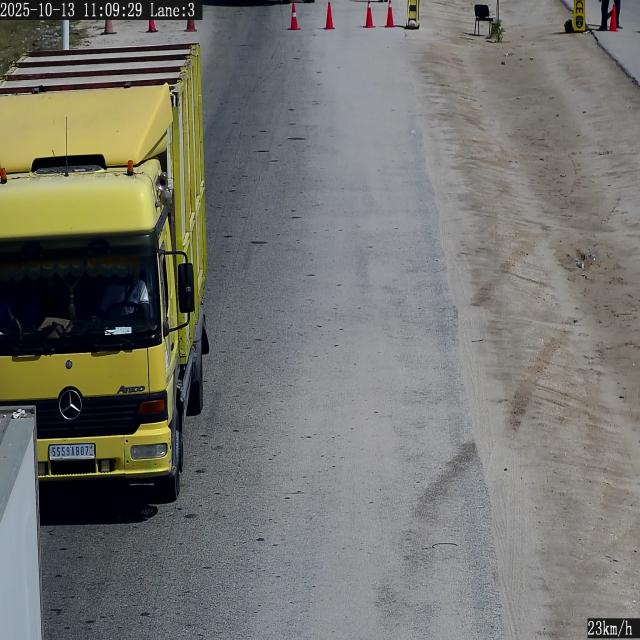BUS: (49, 444, 95, 460)
